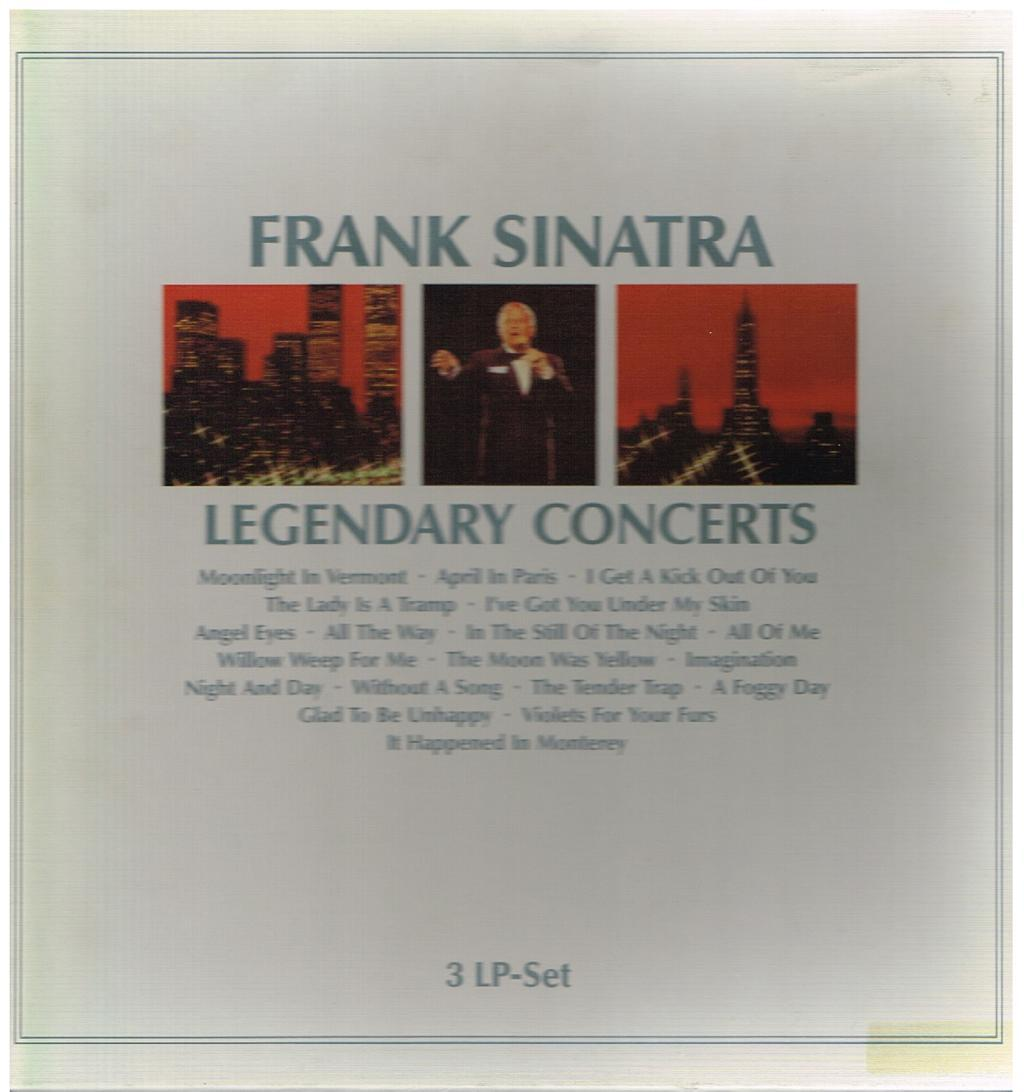face: (503, 308, 531, 346)
